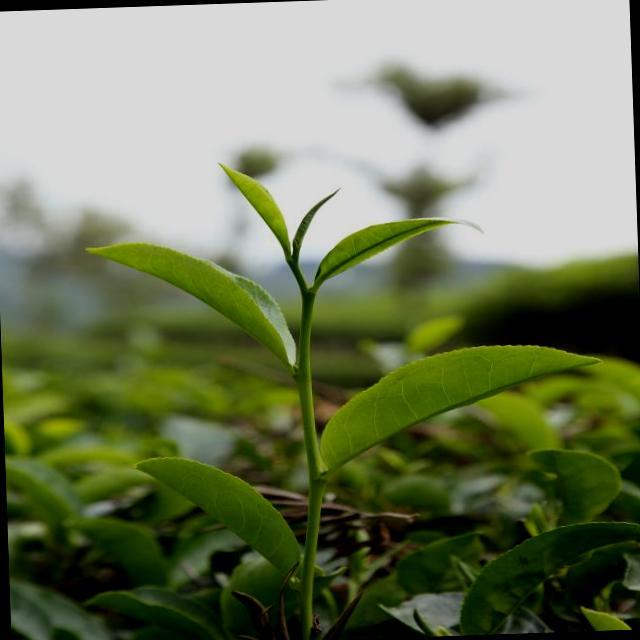Stem: (301, 291, 315, 306)
